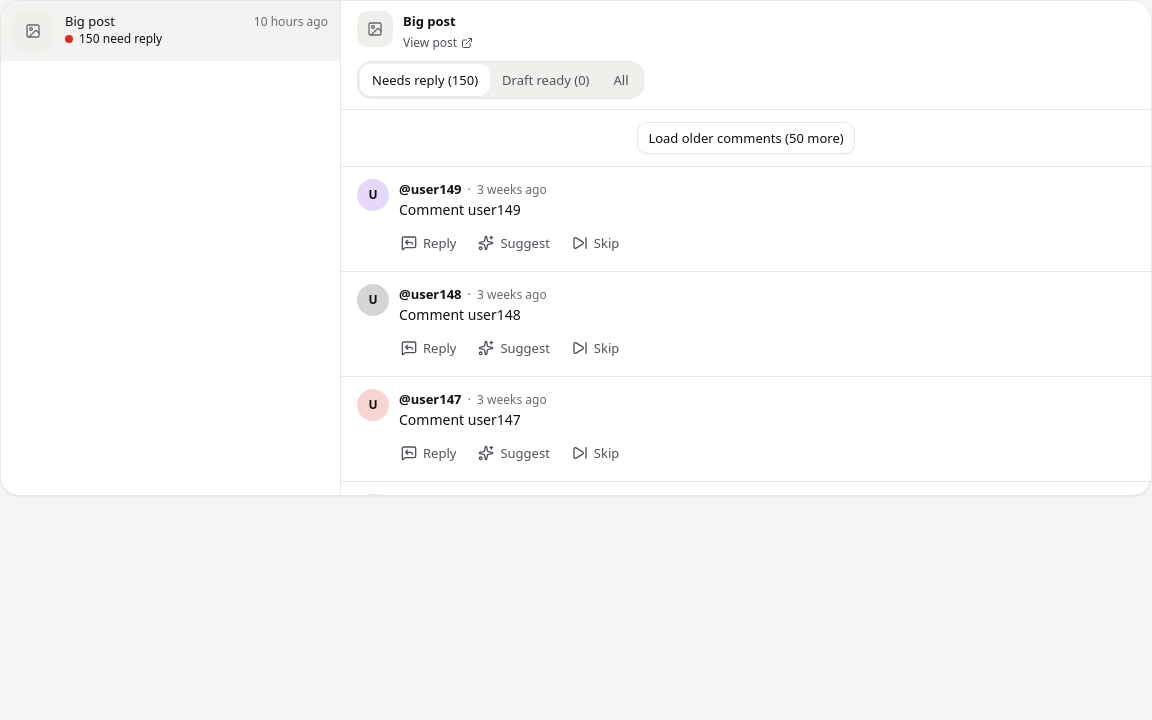
Scenario: Loading older comments › shows the newest 100 first and loads the rest on request
Check: the text "Comment user149" is shown, box [399,200,521,219]
Check: the text "Comment user000" is not shown
Click the button "Load older comments (50 more)": (746,138) [637,122,855,154]
(page scrolled)
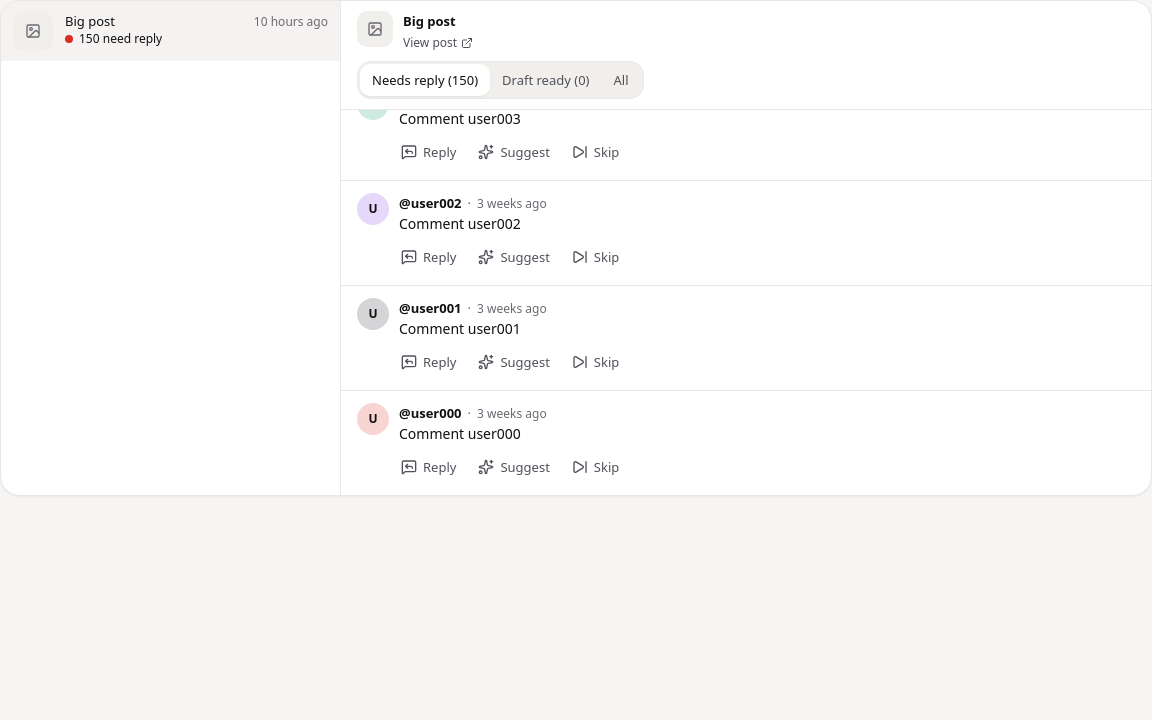
Check: the text "Comment user000" is shown, box [399,424,521,443]
Check: the button "Load older comments" is gone
